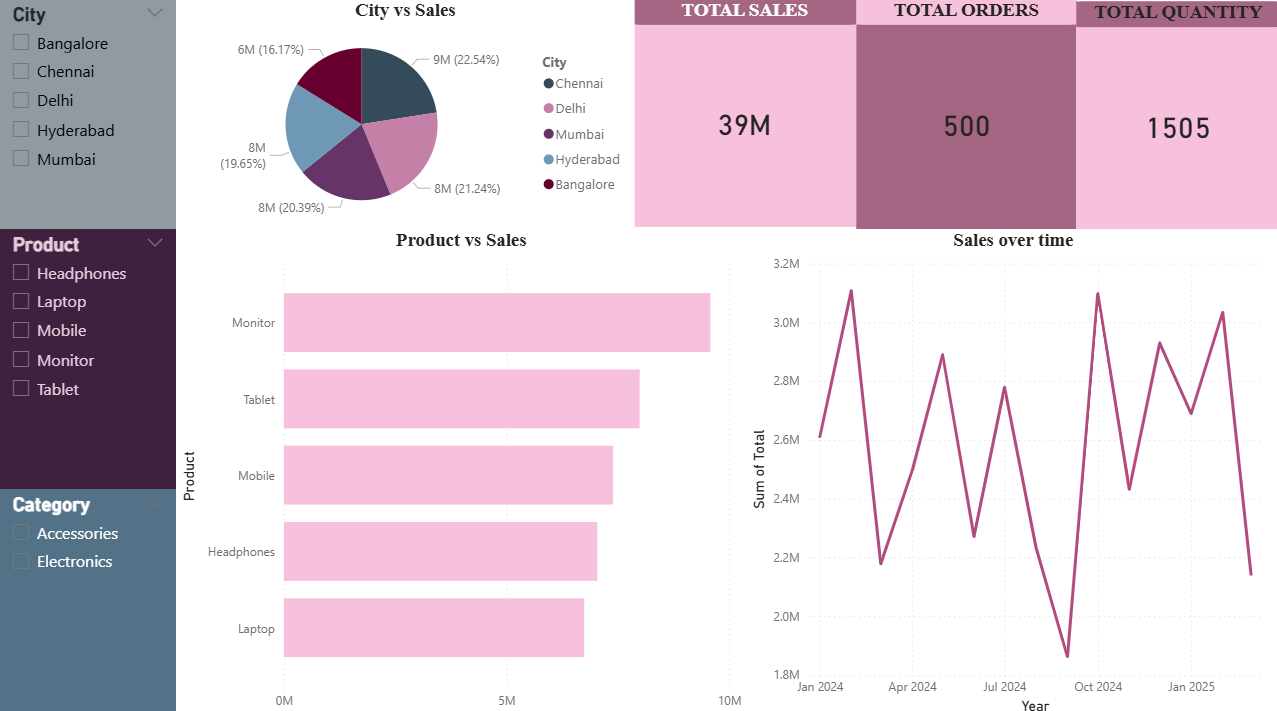

What the dashboard file says about the page in this screenshot:
{"tool":"powerbi","page":{"name":"Page 1","canvas":[1280,720],"ordinal":0},"visuals":[{"type":"card","title":"TOTAL SALES","fields":{"Values":["Sum(Sheet1 (2).Total)"]},"box":[634,0,222,228],"z":0},{"type":"card","title":"TOTAL ORDERS","fields":{"Values":["CountNonNull(Sheet1 (2).OrderID)"]},"box":[856,0,220,230],"z":1000},{"type":"card","title":"TOTAL QUANTITY","fields":{"Values":["Sum(Sheet1 (2).Quantity)"]},"box":[1076,2,204,228],"z":2000},{"type":"clusteredBarChart","title":"Product vs Sales","fields":{"Category":["Sheet1 (2).Product"],"Y":["Sum(Sheet1 (2).Total)"]},"box":[176,230,570,490],"z":3000},{"type":"pieChart","title":"City vs Sales","fields":{"Category":["Sheet1 (2).City"],"Y":["Sum(Sheet1 (2).Total)"]},"box":[176,0,458,230],"z":4000},{"type":"lineChart","title":"Sales over time","fields":{"Y":["Sum(Sheet1 (2).Total)"],"Category":["Sheet1 (2).OrderDate.Variation.Date Hierarchy.Year","Sheet1 (2).OrderDate.Variation.Date Hierarchy.Month"]},"box":[746,230,534,490],"z":5000},{"type":"slicer","fields":{"Values":["Sheet1 (2).City"]},"box":[0,0,176,230],"z":6000},{"type":"slicer","fields":{"Values":["Sheet1 (2).Product"]},"box":[0,230,176,260],"z":7000},{"type":"slicer","fields":{"Values":["Sheet1 (2).Category"]},"box":[0,490,176,230],"z":8000}]}

Visuals, with their boxes in screenshot pixels (x1, y1, x2, y2), scaled from the page's 1280x720 canvas onto the 1277x711 screenshot:
"TOTAL SALES" card: bbox=(633, 0, 854, 225)
"TOTAL ORDERS" card: bbox=(854, 0, 1073, 227)
"TOTAL QUANTITY" card: bbox=(1073, 2, 1276, 227)
"Product vs Sales" clusteredBarChart: bbox=(176, 227, 744, 710)
"City vs Sales" pieChart: bbox=(176, 0, 633, 227)
"Sales over time" lineChart: bbox=(744, 227, 1276, 710)
slicer - Sheet1 (2).City: bbox=(0, 0, 176, 227)
slicer - Sheet1 (2).Product: bbox=(0, 227, 176, 484)
slicer - Sheet1 (2).Category: bbox=(0, 484, 176, 710)
